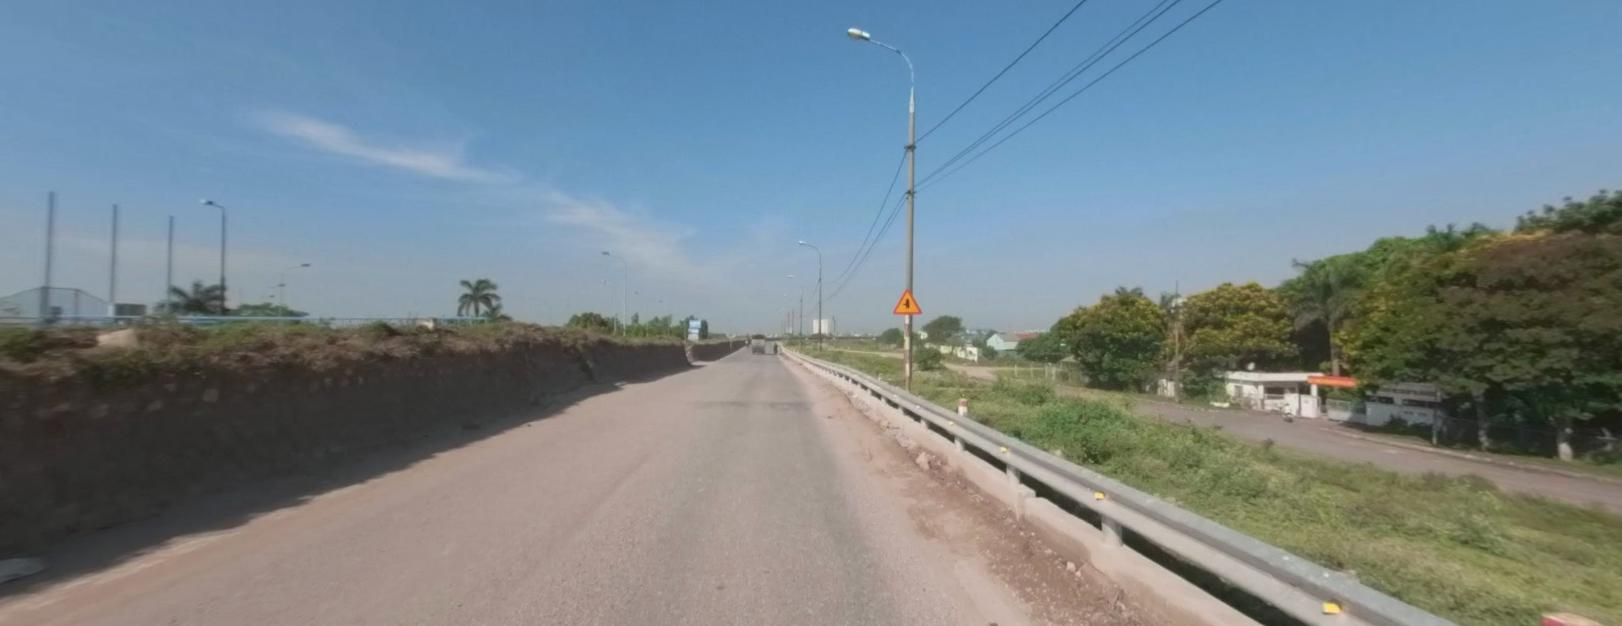Nguy hiem: (890, 287, 920, 312)
